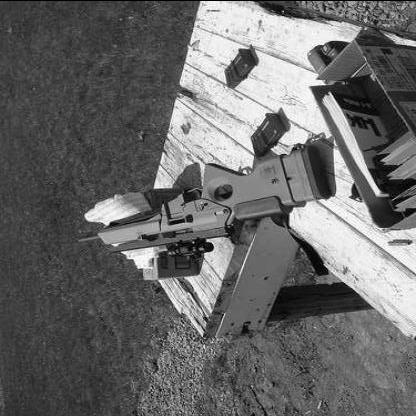rifle: (70, 128, 317, 263)
